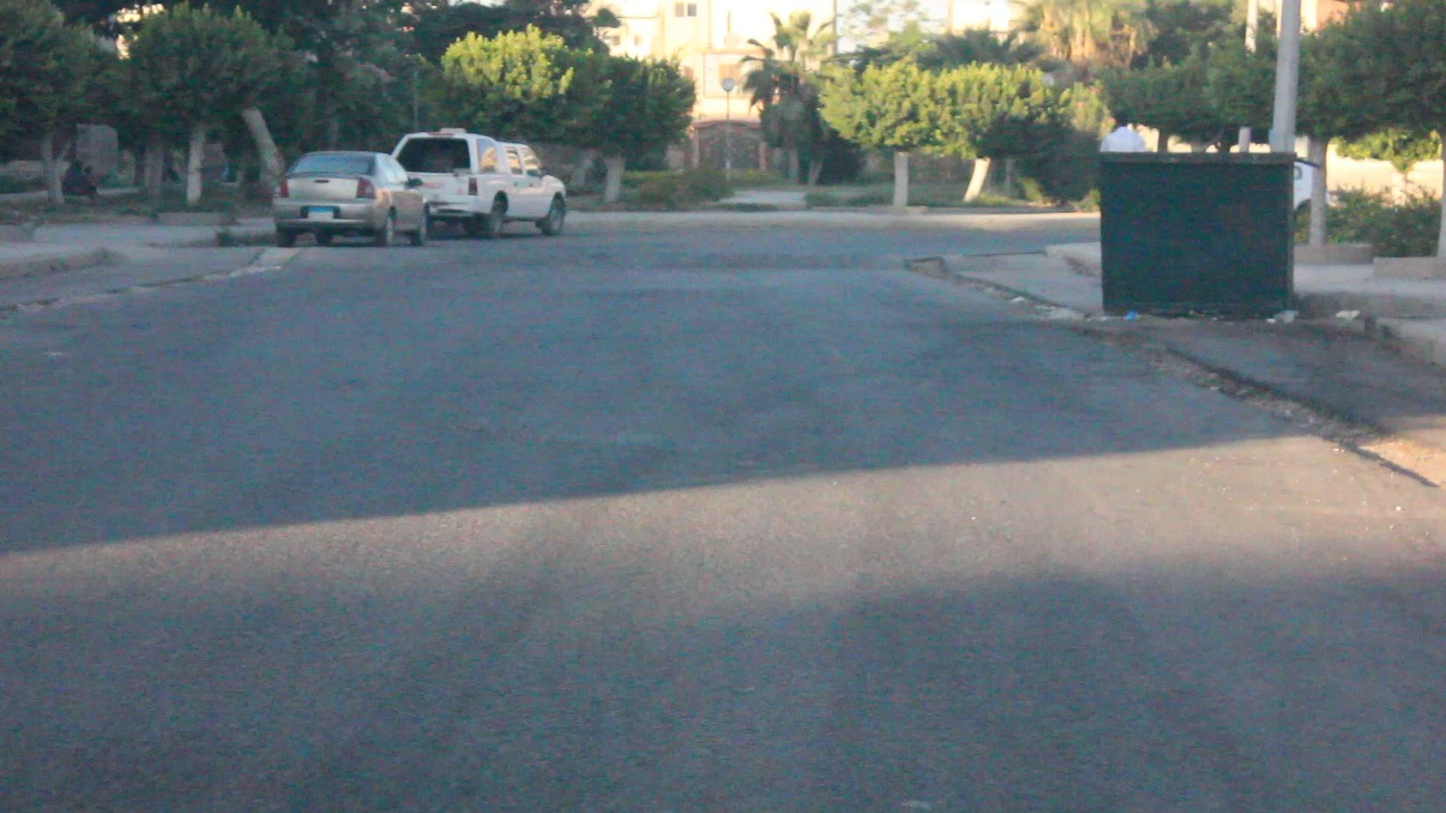Bump: (235, 243, 913, 271)
